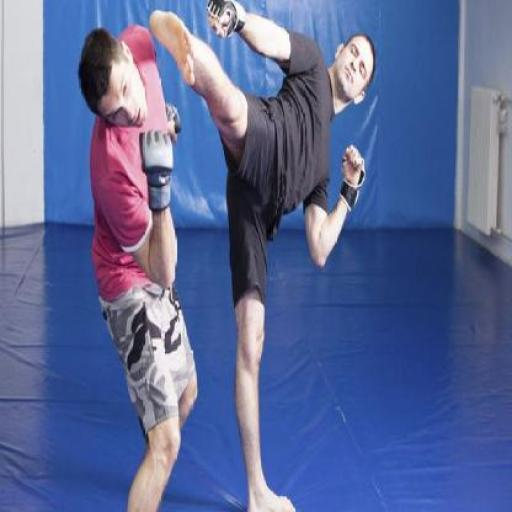Fighting: (77, 0, 387, 512)
